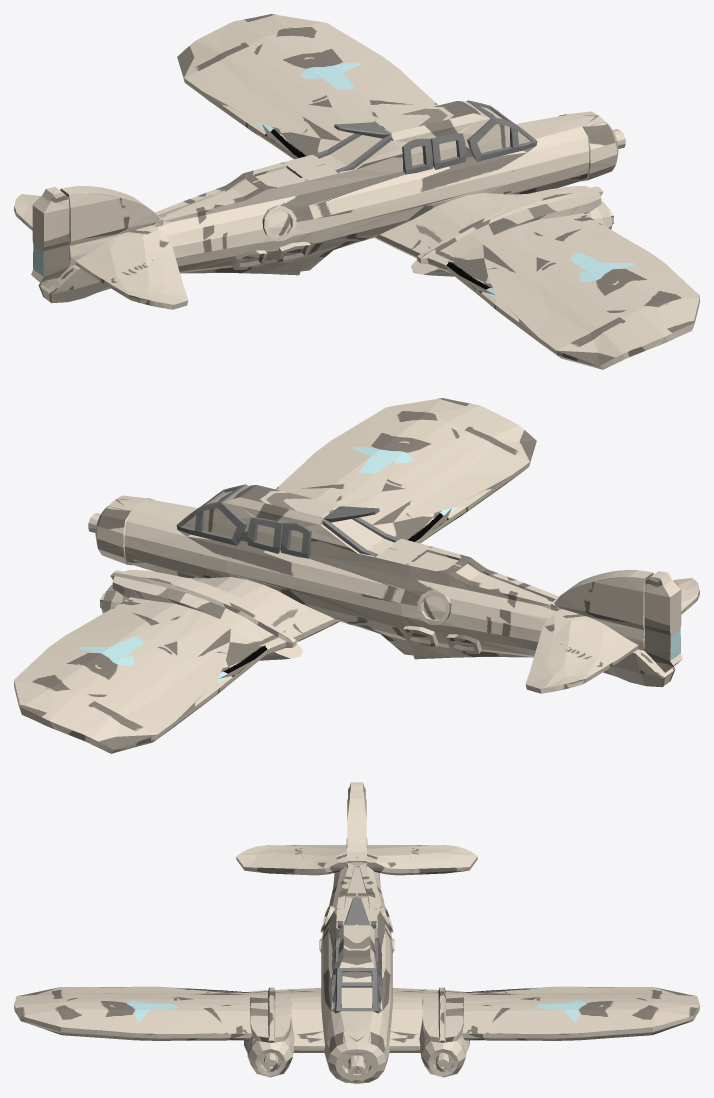
3 renders of one model, top to bottom at view 1: azimuth 30°, elevation 25°; view 2: azimuth 150°, elevation 25°; view 3: azimuth 270°, elevation 25°, orthographic. The views are drawn at different scales.
Visible parts, largest first — view 1: Plane; view 2: Plane; view 3: Plane.
Part boxes in pixels (<box>): Plane: <box>14,14,699,369</box>; Plane: <box>14,398,699,753</box>; Plane: <box>14,782,699,1083</box>.
Bounding box in the file's own units: 0.8834 × 0.1996 × 1.13.
8 materials, 2 textured.
